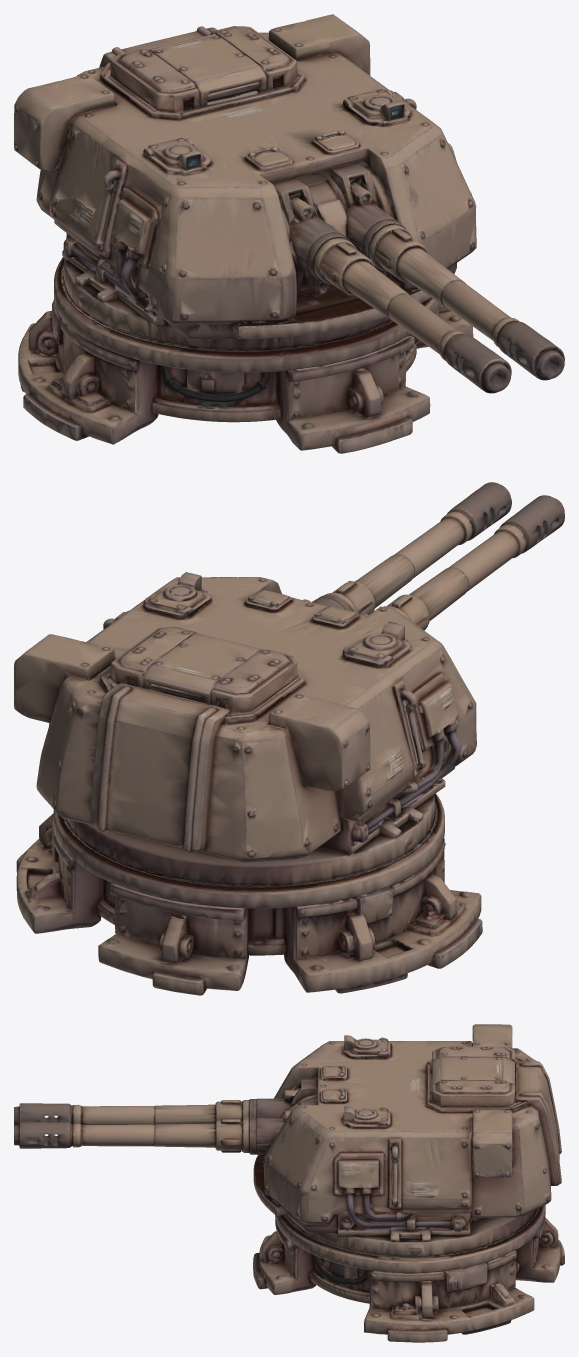
File: dual-barrel_turret_3d_model_1.fbx
The picture shows the model from 3 angles, top to bottom: view 1: azimuth 30°, elevation 25°; view 2: azimuth 150°, elevation 25°; view 3: azimuth 270°, elevation 25°; orthographic projection. The views are drawn at different scales.
Parts seen in each view (by area): view 1: tripo_mesh_34ffdf67-bcf8-4f29-8527-47006bbb5bd1; view 2: tripo_mesh_34ffdf67-bcf8-4f29-8527-47006bbb5bd1; view 3: tripo_mesh_34ffdf67-bcf8-4f29-8527-47006bbb5bd1.
Part boxes in pixels (left/top/right/bottom): tripo_mesh_34ffdf67-bcf8-4f29-8527-47006bbb5bd1: left=14, top=14, right=564, bottom=453; tripo_mesh_34ffdf67-bcf8-4f29-8527-47006bbb5bd1: left=14, top=482, right=564, bottom=995; tripo_mesh_34ffdf67-bcf8-4f29-8527-47006bbb5bd1: left=14, top=1024, right=564, bottom=1342.
Bounding box in the file's own units: 0.6217 × 0.3974 × 0.9825.
